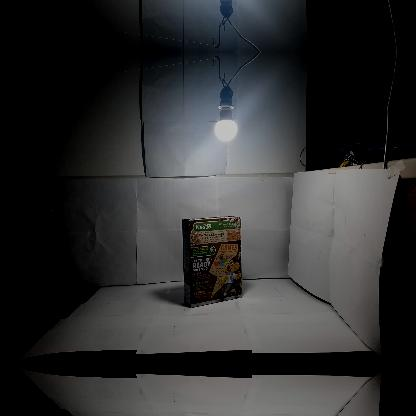Koko-Krunch: (181, 214, 242, 308)
